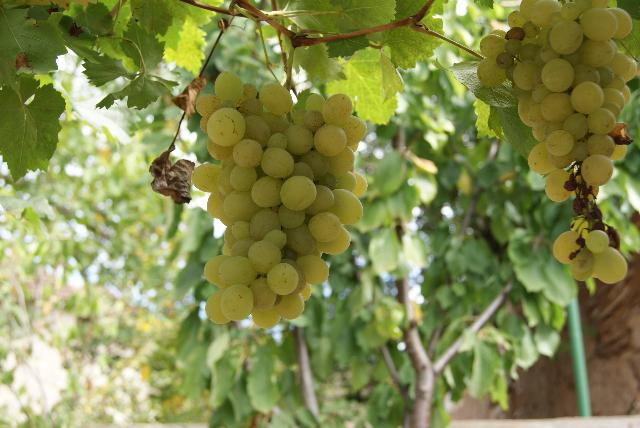grapes: (191, 71, 366, 329), (478, 0, 636, 284)
